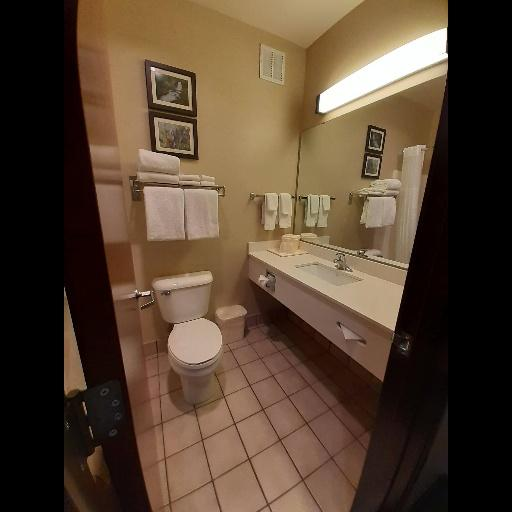clean_floor: (144, 327, 379, 511)
clean_sink: (243, 231, 410, 385)
clean_toilet: (151, 268, 225, 408)
folded_towel: (147, 188, 221, 242), (130, 152, 184, 188), (305, 190, 330, 231), (265, 195, 292, 232), (183, 174, 217, 188)
